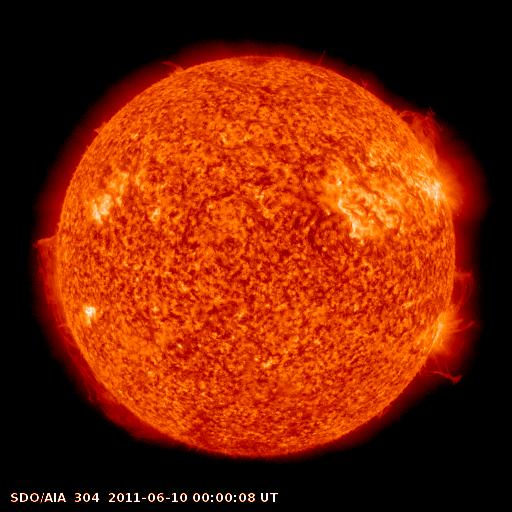prominence: (30, 228, 185, 451), (417, 260, 487, 392), (395, 100, 452, 163)
